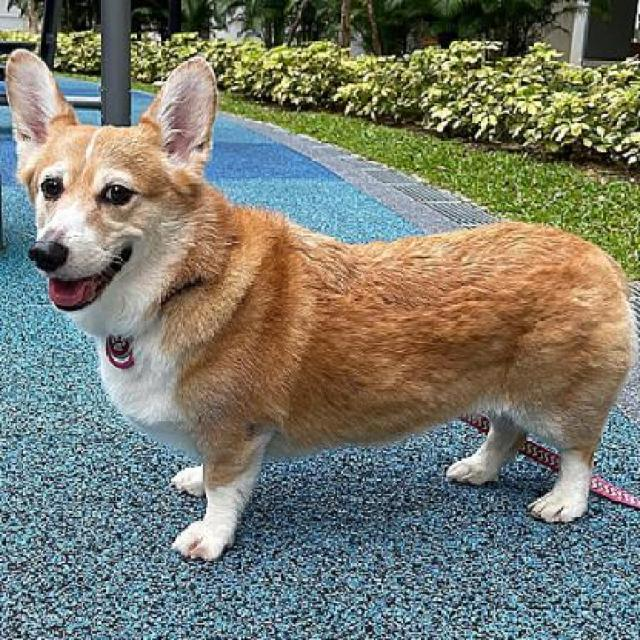Dog: (3, 42, 637, 566)
